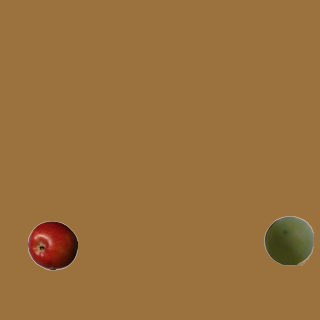Apple Braeburn: (27, 220, 77, 270)
Grape White 4: (263, 215, 313, 265)
